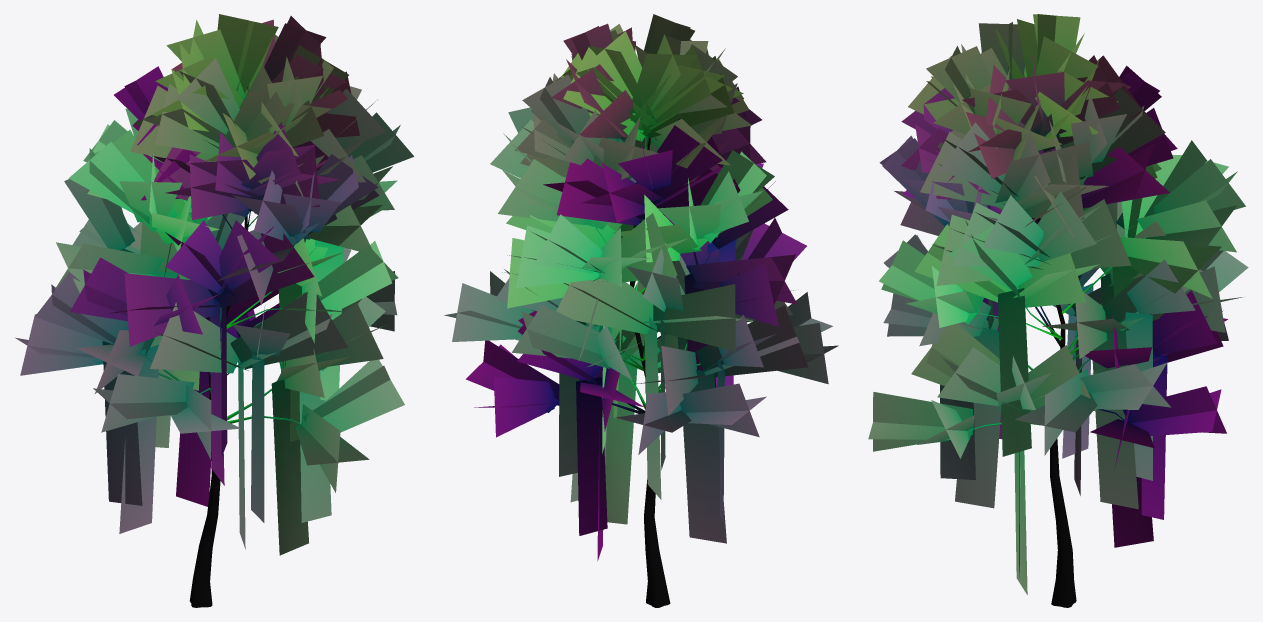
File: Tree_10_3.fbx
3 views of the same model, side by side, from view 1: azimuth 30°, elevation 25°; view 2: azimuth 150°, elevation 25°; view 3: azimuth 270°, elevation 25° (orthographic). The views are drawn at different scales.
Parts seen in each view (by area): view 1: _3; view 2: _3; view 3: _3.
Boxes of the visible parts, x1,y1,x2,y2 form: _3: (15,14,413,607); _3: (444,14,838,607); _3: (868,14,1248,607).
Size of the model in its own units: 1286 by 2100 by 1224.
